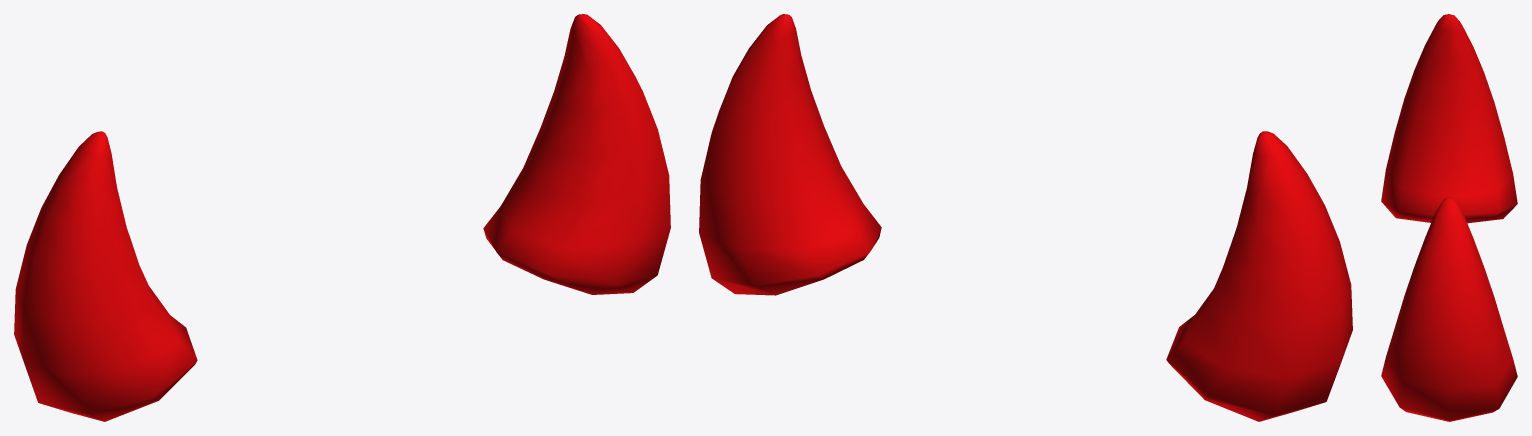
File: Hat(3).gltf
The picture shows the model from 3 angles, left to right: view 1: azimuth 30°, elevation 25°; view 2: azimuth 150°, elevation 25°; view 3: azimuth 270°, elevation 25°; orthographic projection. The views are drawn at different scales.
Parts seen in each view (by area): view 1: Hat(3); view 2: Hat(3); view 3: Hat(3).
Boxes of the visible parts, bbox=[...] form: Hat(3): bbox=[14, 14, 670, 421]; Hat(3): bbox=[699, 14, 1352, 421]; Hat(3): bbox=[1381, 14, 1517, 421].
Bounding box in the file's own units: 1.76 × 0.7227 × 0.42.
